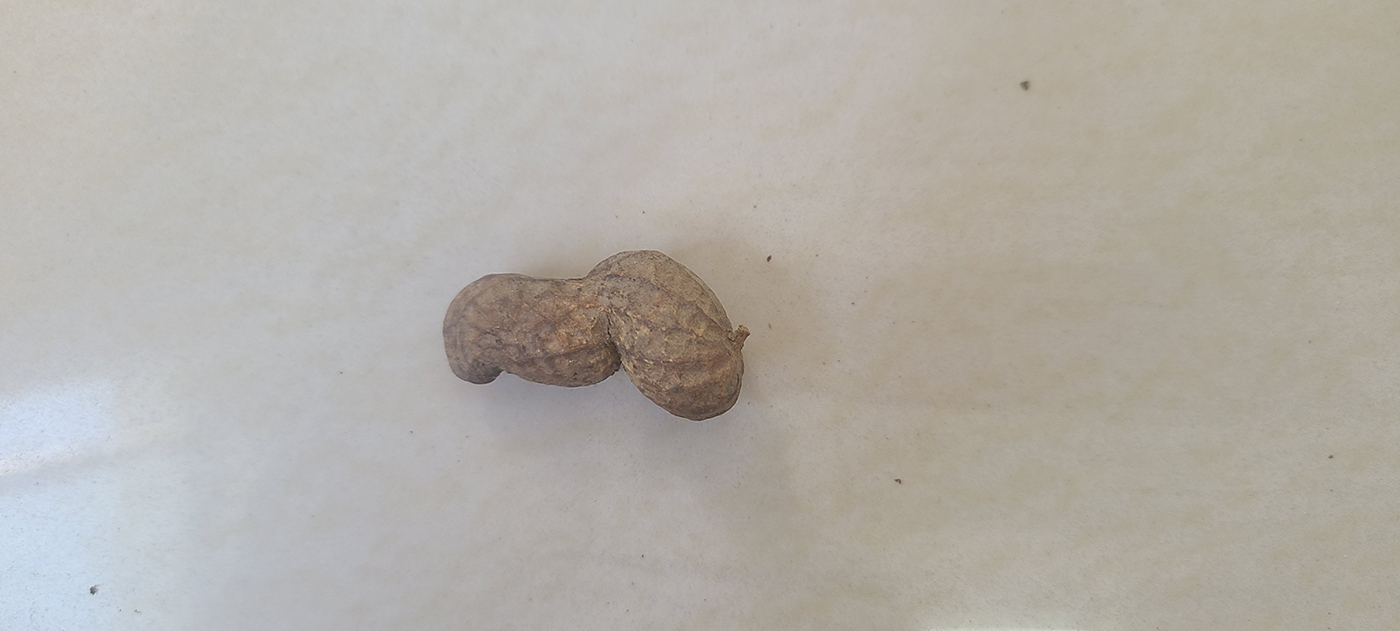l: (442, 249, 746, 419)
